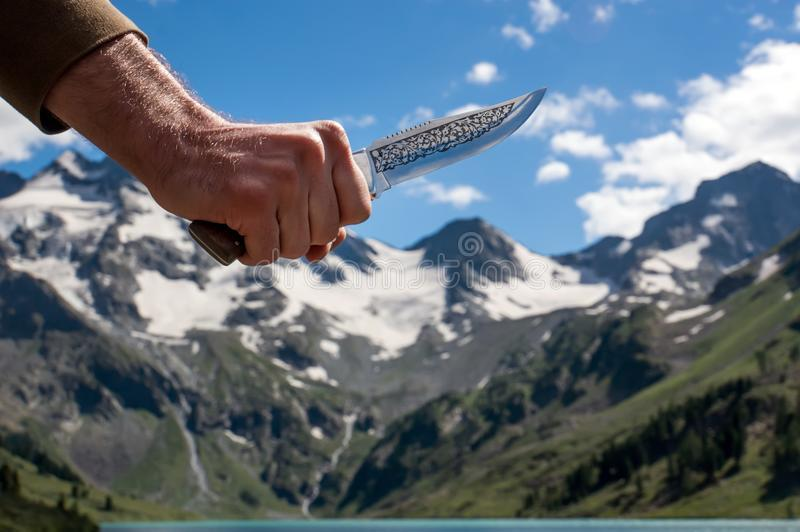weapon: (185, 86, 549, 267)
